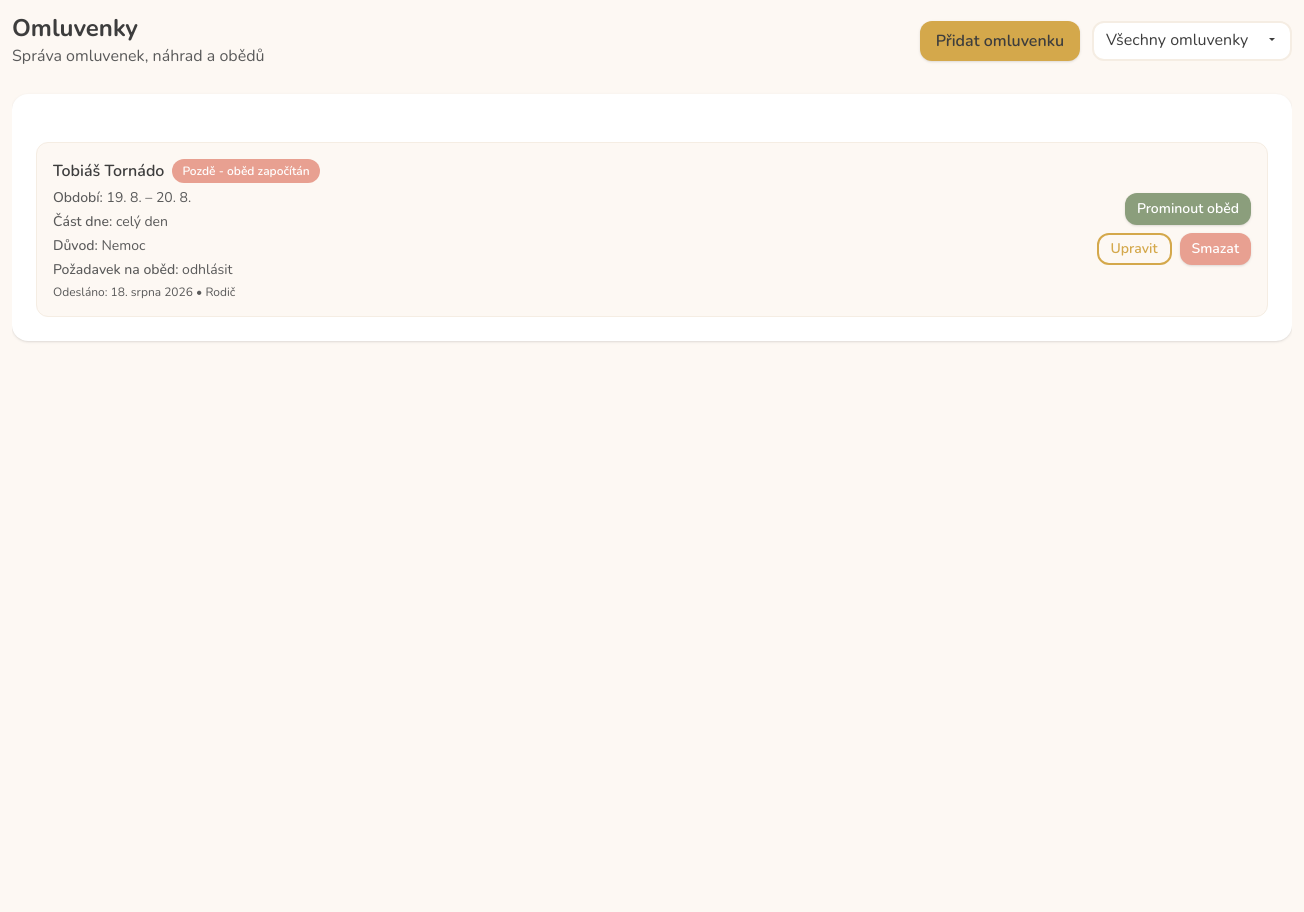
Test: ExcuseManagementPage › reloads the derived range state after narrowing an excuse
Expected: the text "Pozdě - oběd započítán" is shown, [172,159,320,183]
Step 1. Click the button "Upravit" → point(1134, 249), box [1097,233,1172,265]
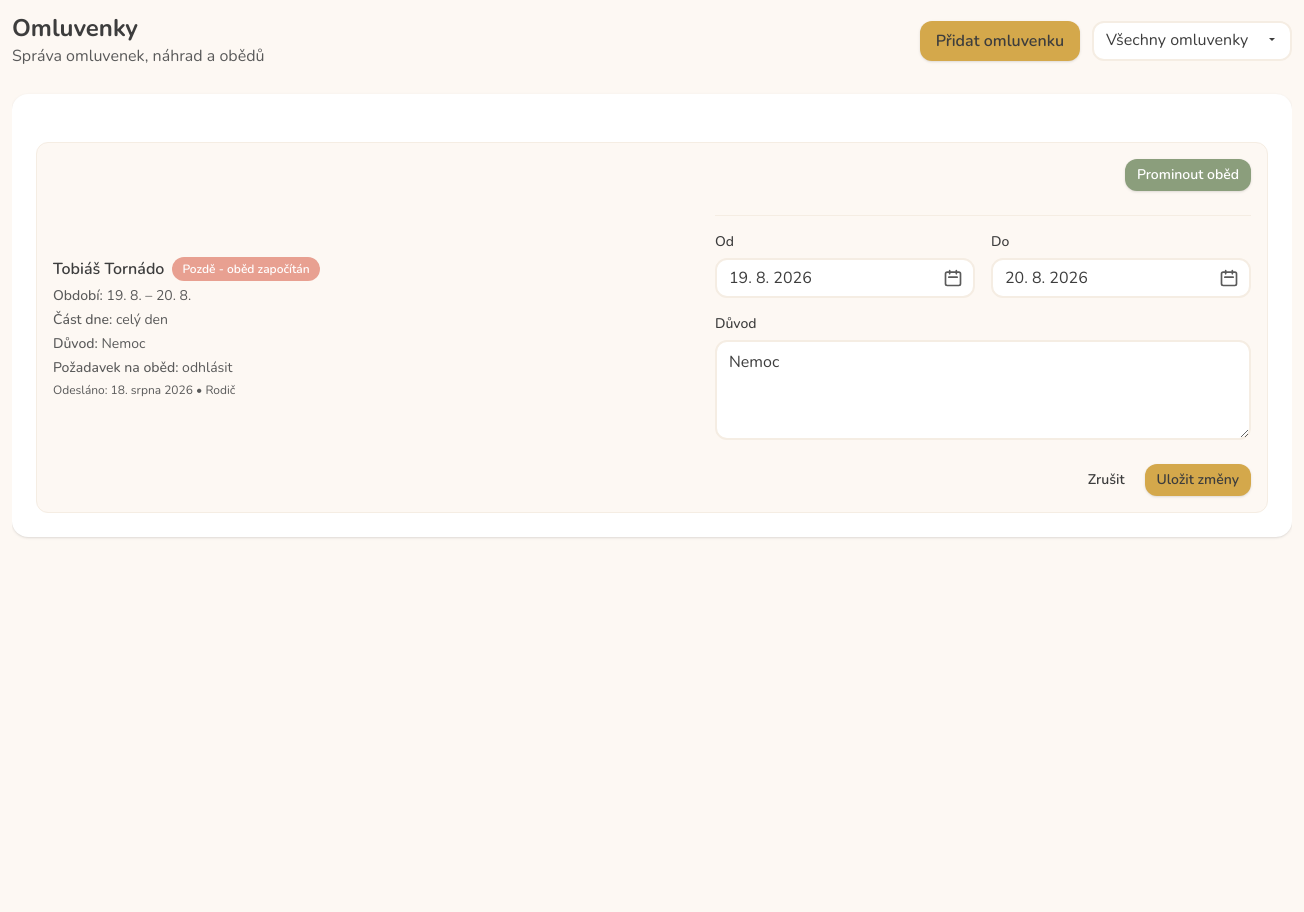
Step 2. Replace the text in the dropdown labelled "Od" with "2026-08-20" → point(845, 278), box [715,258,975,298]
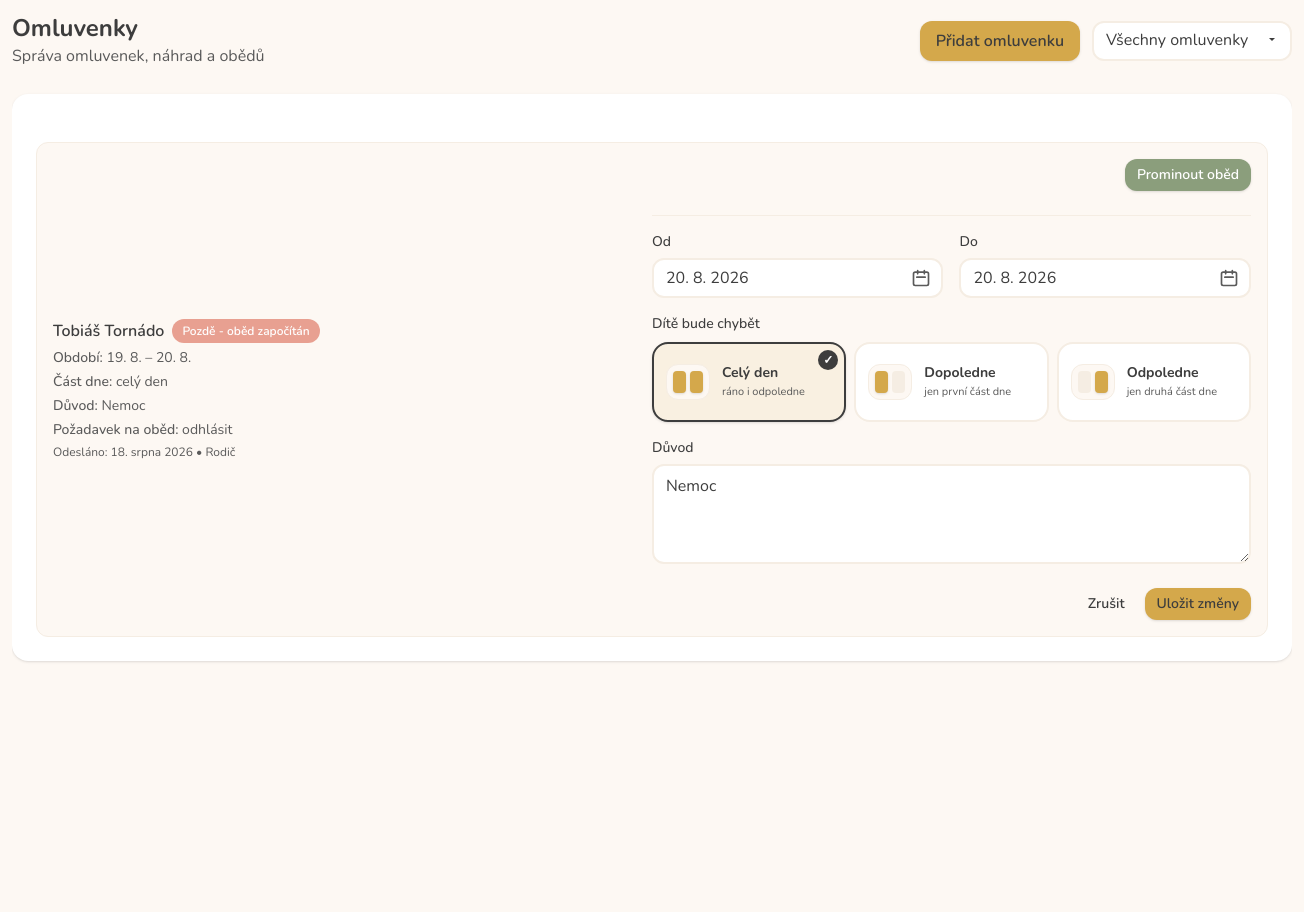
Step 3. Click the button "Uložit změny" → point(1198, 604), box [1144,588,1251,620]
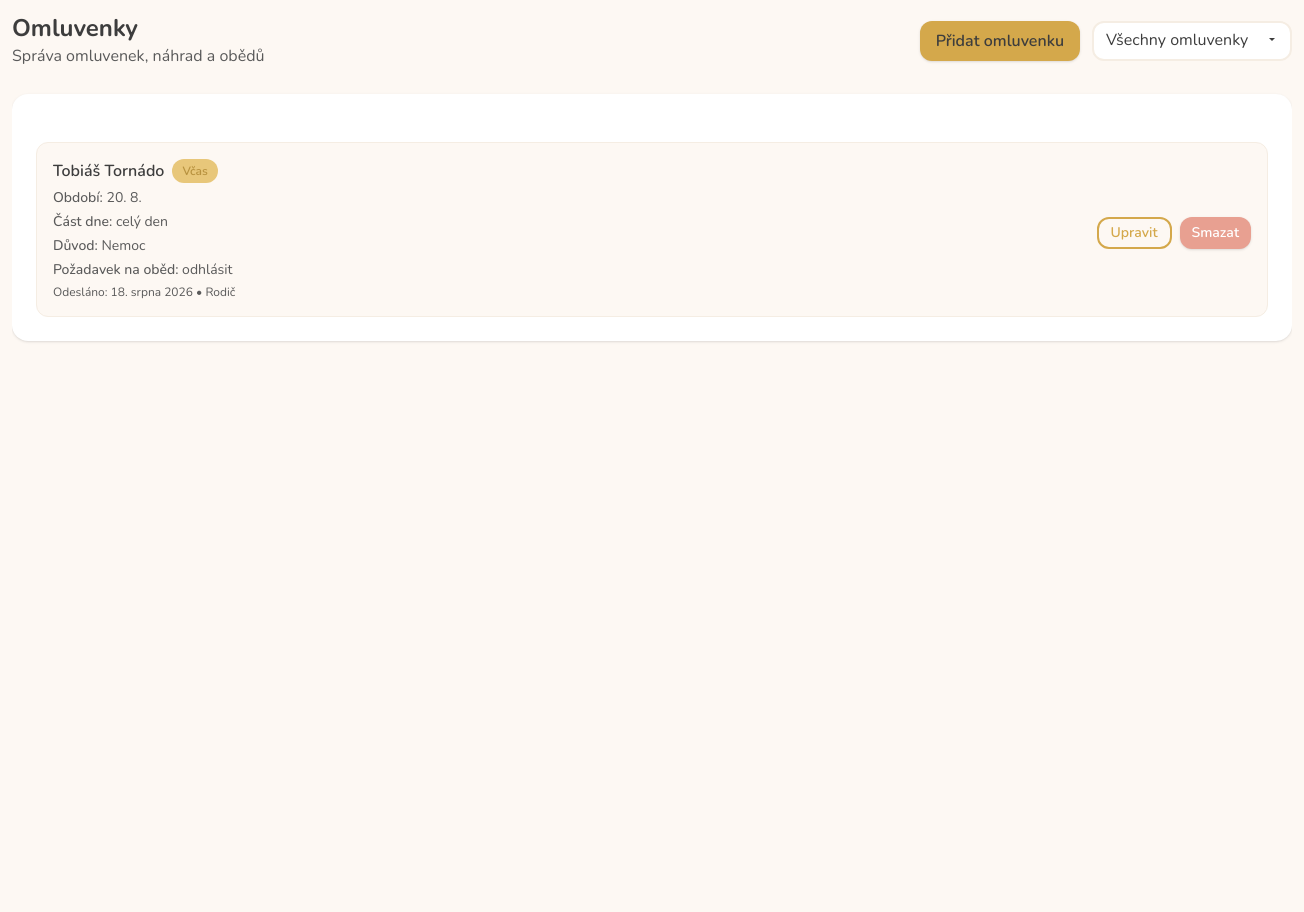
Now the text "Včas" is shown, box [172,159,218,183]
Now the text "Pozdě - oběd započítán" is gone
